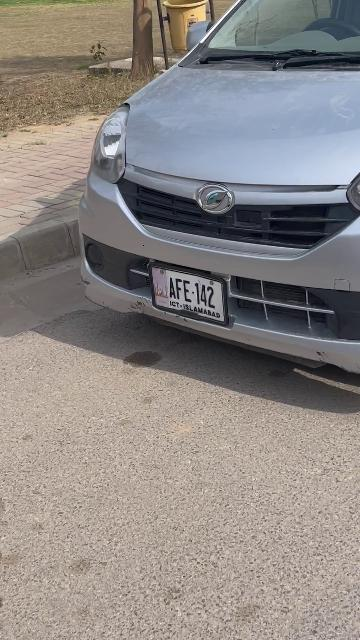plate: (147, 263, 226, 326)
